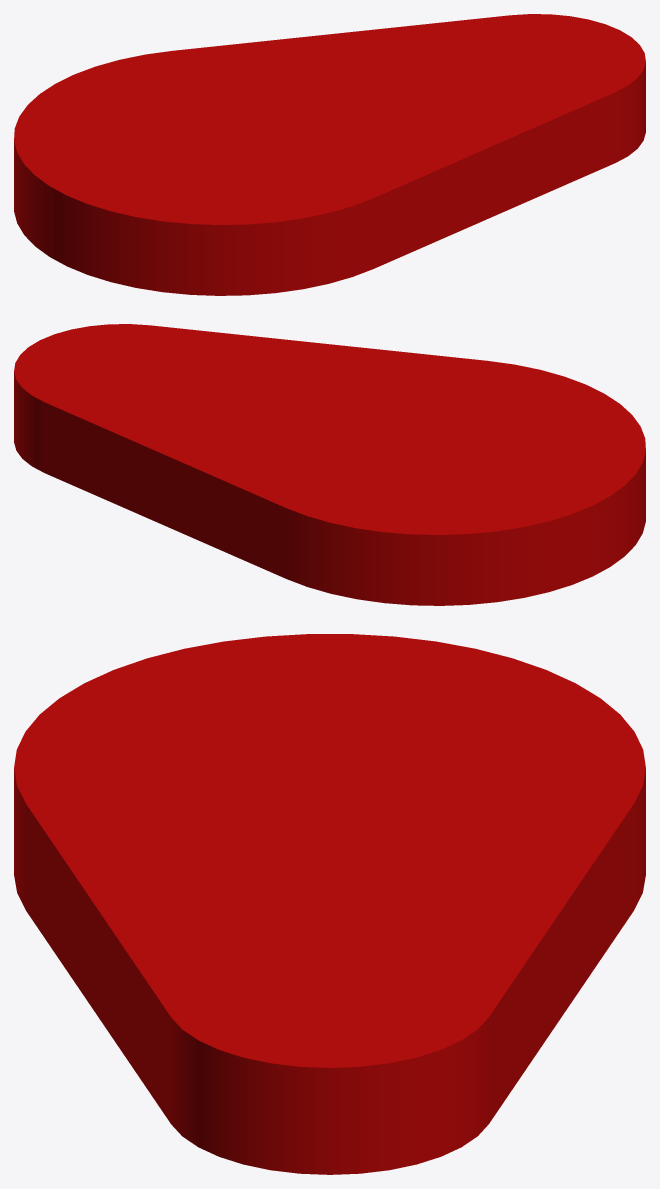
The picture shows the model from 3 angles, top to bottom: view 1: azimuth 30°, elevation 25°; view 2: azimuth 150°, elevation 25°; view 3: azimuth 270°, elevation 25°; orthographic projection. The views are drawn at different scales.
Visible parts, largest first — view 1: root; view 2: root; view 3: root.
Boxes of the visible parts, <box> form: root: <box>14,14,645,295</box>; root: <box>14,324,645,605</box>; root: <box>14,634,645,1174</box>.
Bounding box in the file's own units: 0.2349 × 0.027 × 0.1446.
